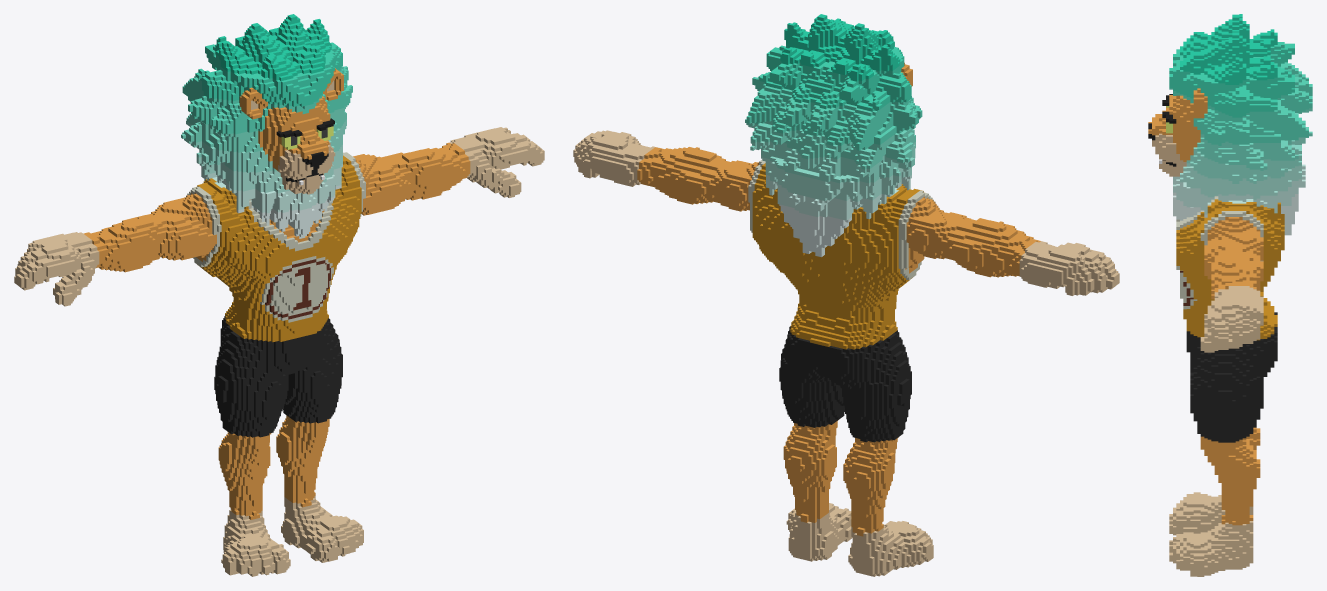
File: 754-BAiB3HIF.glb
3 renders of one model, left to right at view 1: azimuth 30°, elevation 25°; view 2: azimuth 150°, elevation 25°; view 3: azimuth 270°, elevation 25°, orthographic. The views are drawn at different scales.
Visible parts, largest first — view 1: standard; view 2: standard; view 3: standard.
Part boxes in pixels (bbox=[...]): standard: bbox=[14, 14, 544, 576]; standard: bbox=[573, 14, 1119, 576]; standard: bbox=[1148, 14, 1312, 576].
Size of the model in its own units: 17.2 by 16.5 by 4.7.
Materials: 5 (5 with a texture image).
